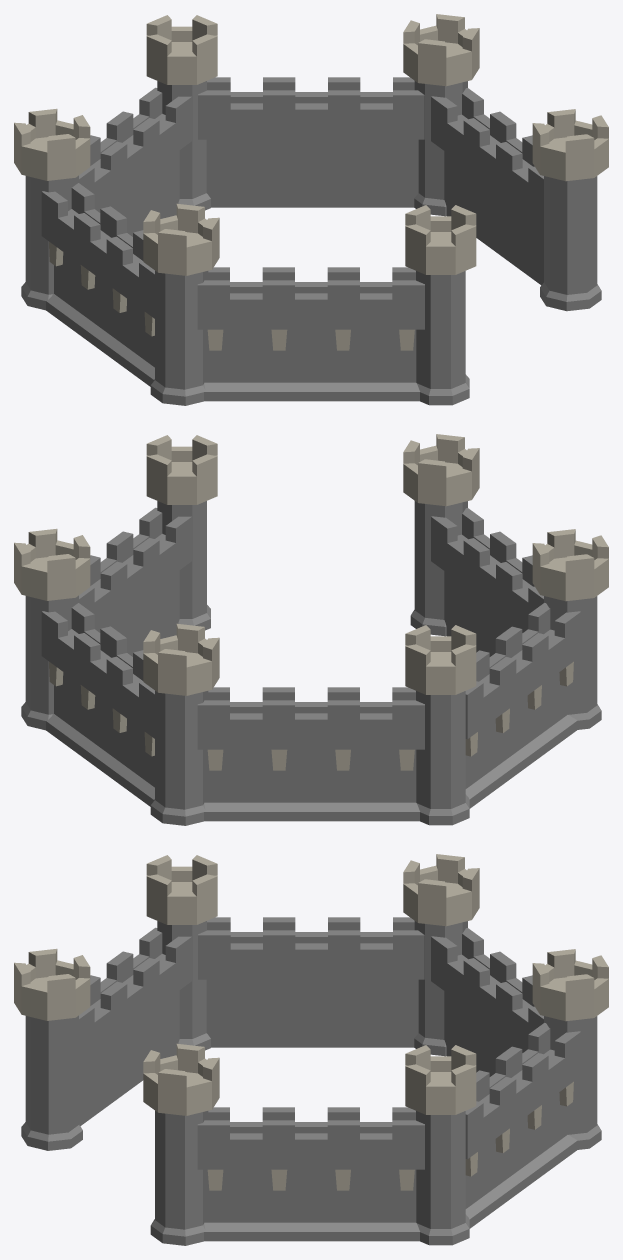
Rendered from Finish.fbx.
3 renders of one model, top to bottom at view 1: azimuth 30°, elevation 25°; view 2: azimuth 150°, elevation 25°; view 3: azimuth 270°, elevation 25°, orthographic.
Visible parts, largest first — view 1: Finish; view 2: Finish; view 3: Finish.
Boxes of the visible parts, <box> form: Finish: <box>14,14,608,405</box>; Finish: <box>14,434,608,825</box>; Finish: <box>14,854,608,1245</box>.
Bounding box in the file's own units: 158 × 57.59 × 179.
